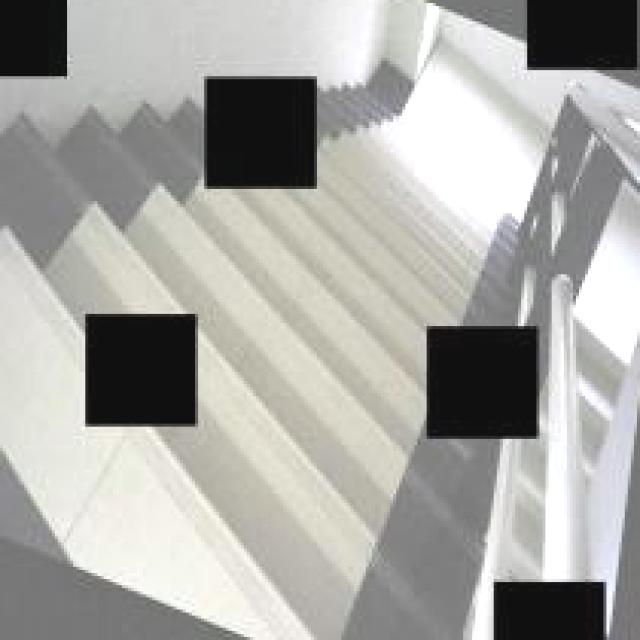downstair: (199, 196, 422, 632)
